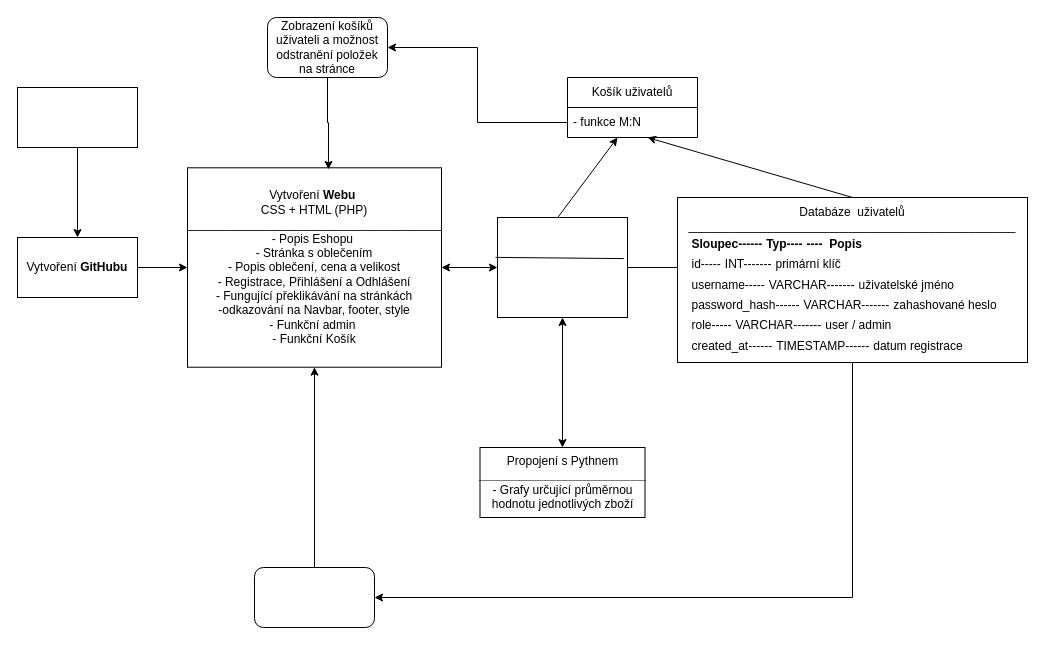
Some shapes in this 1045 by 645 pixel diagram are drawn without their labels. Each missing label, with the centre of its shape:
Databáze produktů - Typ - Velikost -Cena: (x=562, y=267)
Téma + autor: Eshop s oblečením (David Hužvár): (x=77, y=117)
Zobrazení uživatelů adminovi: (x=314, y=597)
